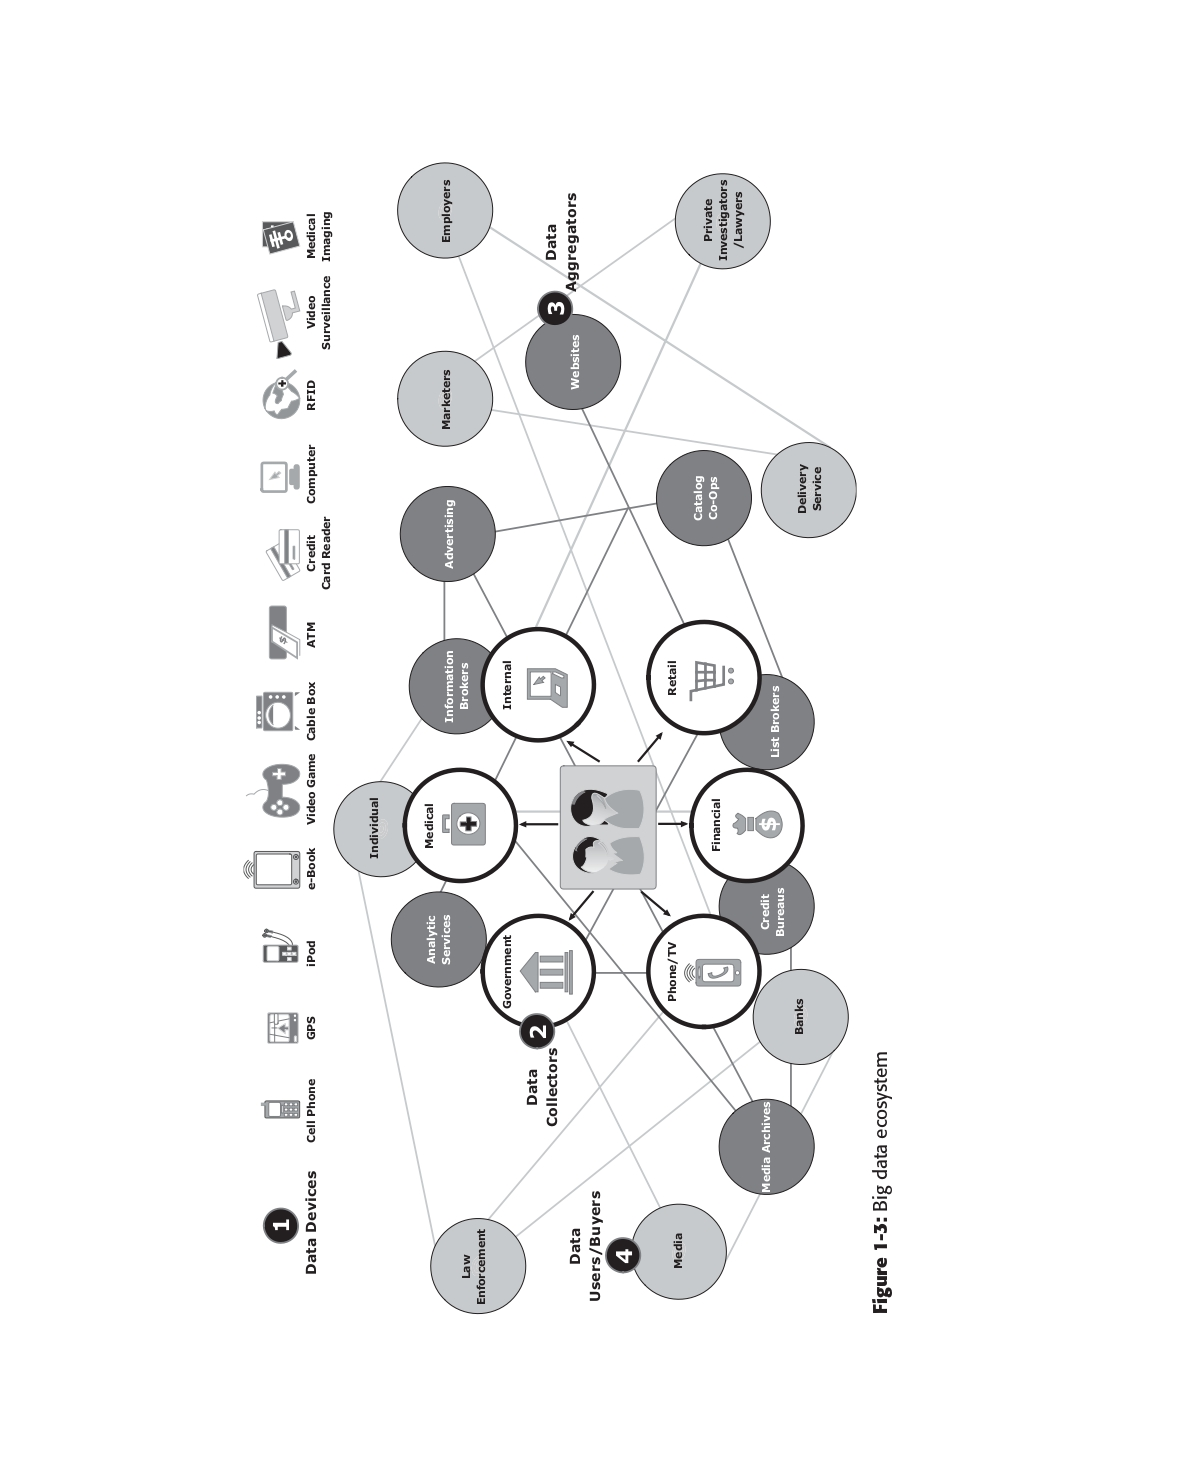Image: (321, 145, 864, 1332)
